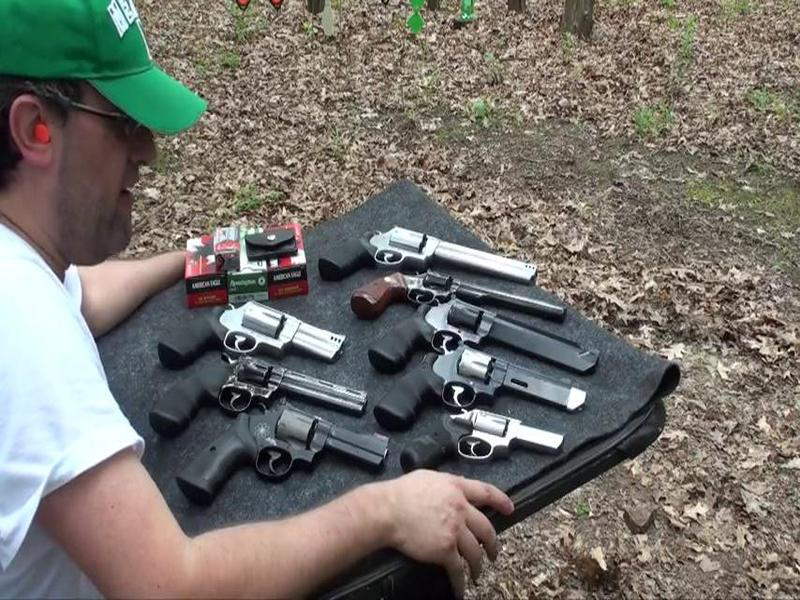Revolver: (317, 218, 546, 285)
